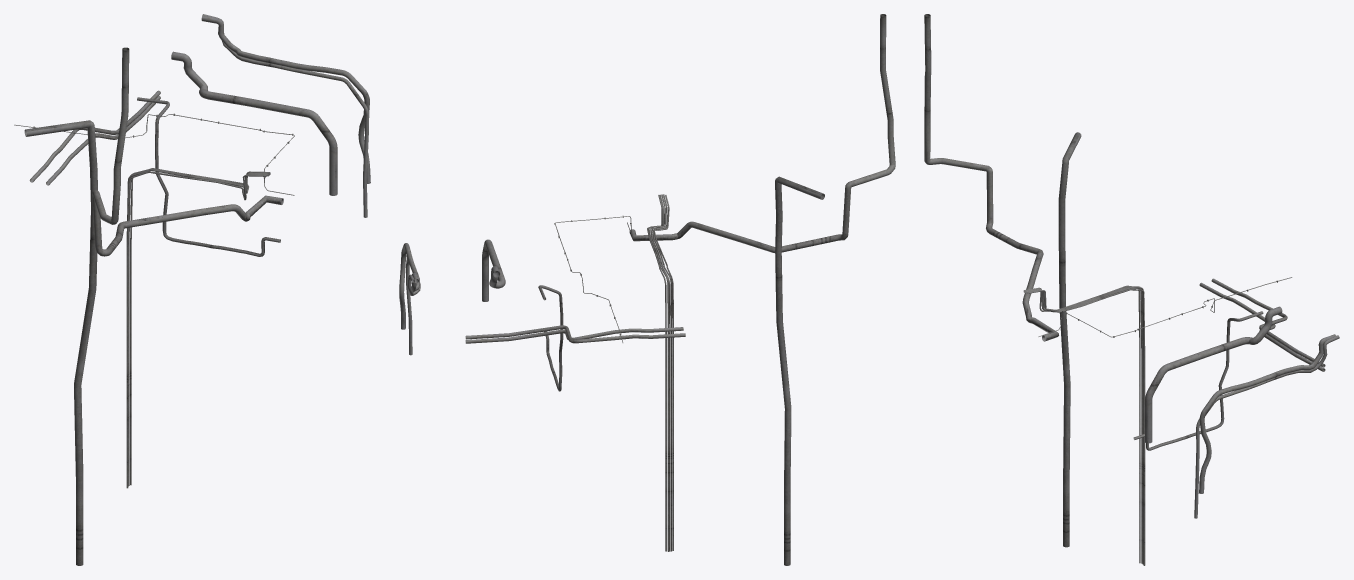
Rendered from CorridorSculpture_01.fbx.
The picture shows the model from 3 angles, left to right: view 1: azimuth 30°, elevation 25°; view 2: azimuth 150°, elevation 25°; view 3: azimuth 270°, elevation 25°; orthographic projection. The views are drawn at different scales.
Visible parts, largest first — view 1: CorridorSculpture_01, Cube.060; view 2: CorridorSculpture_01, Cube.060; view 3: CorridorSculpture_01, Cube.060.
Boxes of the visible parts, x1=… form: CorridorSculpture_01: x1=24, y1=14, x2=370, y2=565; Cube.060: x1=14, y1=113, x2=294, y2=488; CorridorSculpture_01: x1=399, y1=14, x2=895, y2=565; Cube.060: x1=554, y1=194, x2=673, y2=551; CorridorSculpture_01: x1=924, y1=14, x2=1339, y2=547; Cube.060: x1=1023, y1=277, x2=1292, y2=565.
Bounding box in the file's own units: 3397 × 4534 × 3302.
